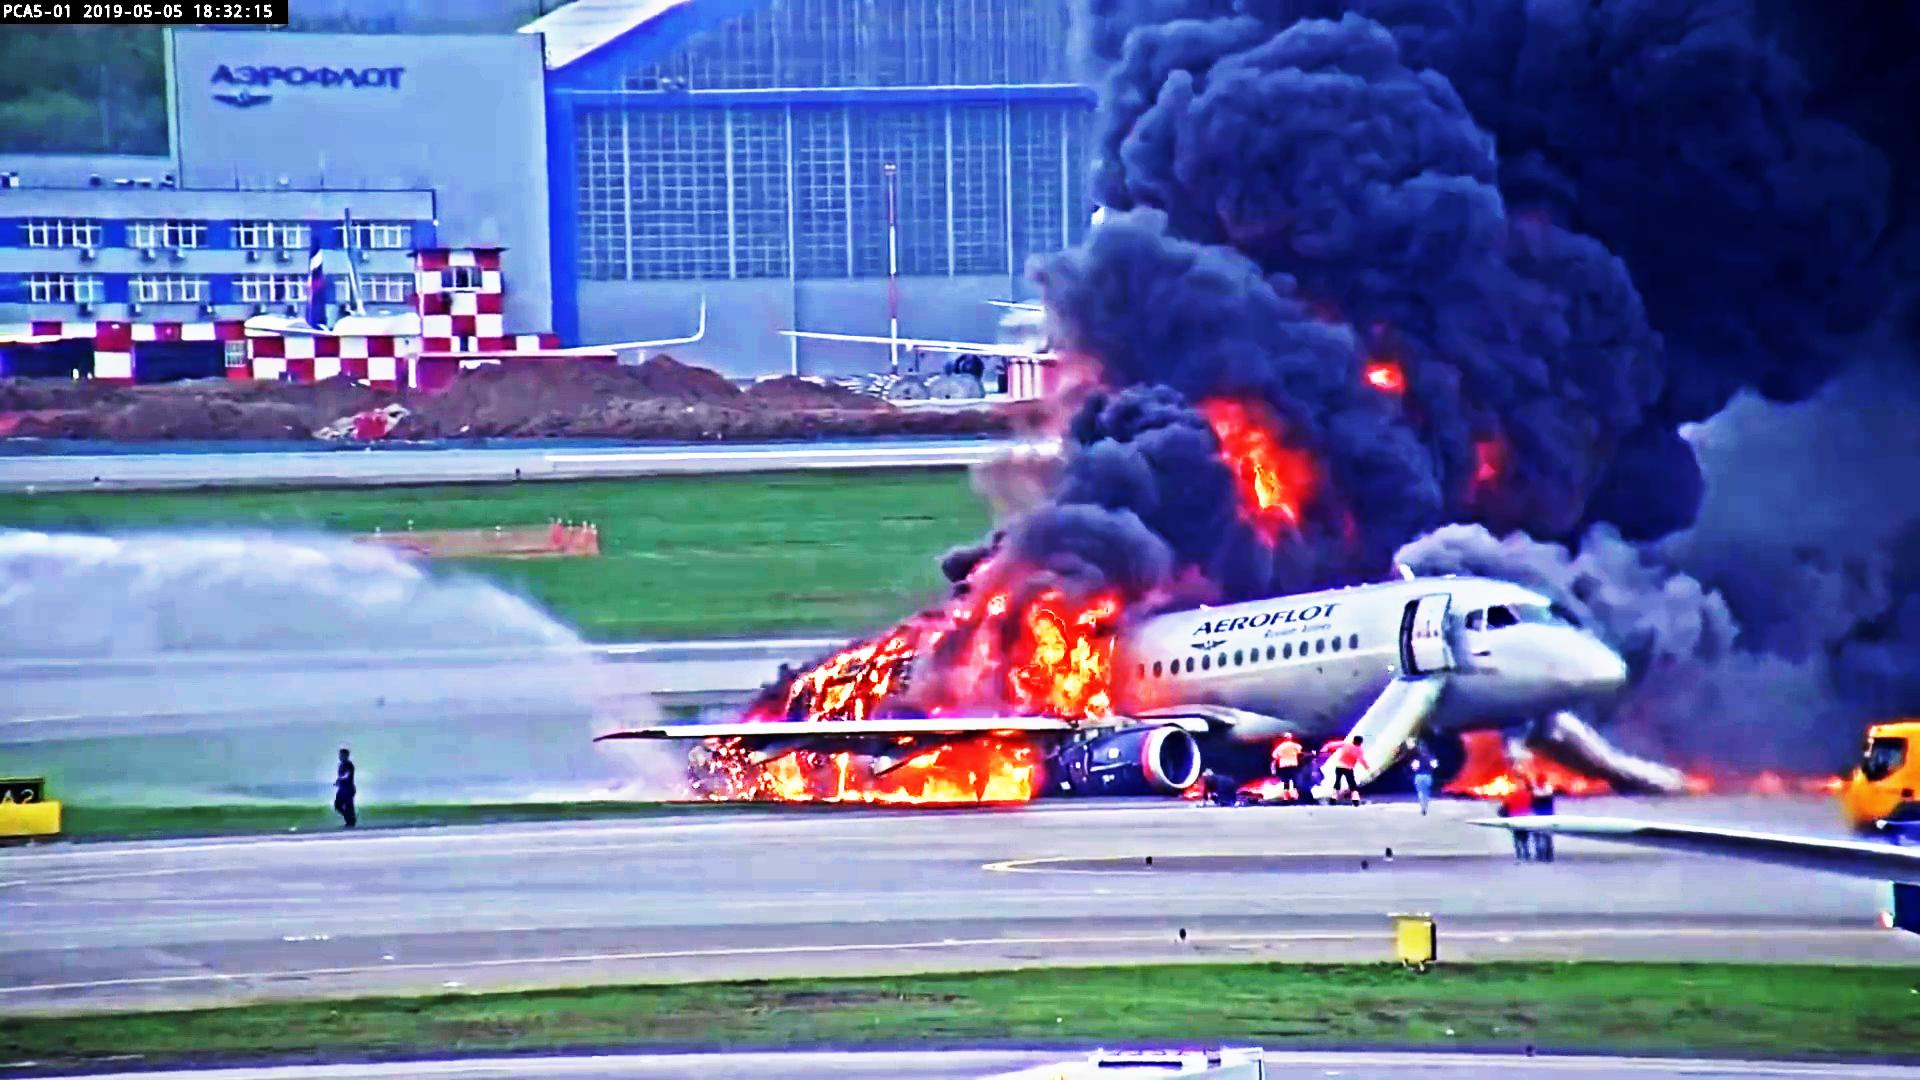fire: (766, 756, 1031, 811), (1018, 603, 1117, 715)
smoke: (1126, 22, 1683, 513)
